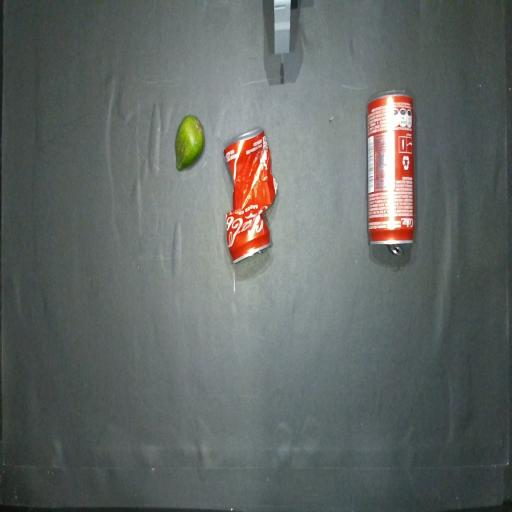higo: (175, 115, 204, 171)
lata: (367, 91, 415, 254)
lata_defectuoso: (224, 128, 277, 263)
